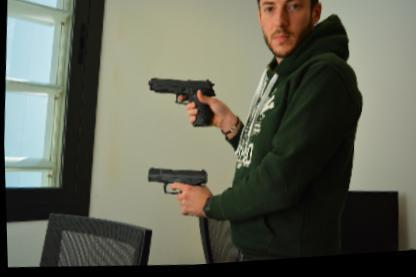pistol: (144, 74, 216, 132), (142, 163, 208, 220)
